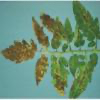Tomato Septoria leaf spot: (67, 54, 98, 99), (70, 2, 98, 46), (51, 55, 70, 96), (63, 18, 73, 50), (69, 53, 78, 79)
